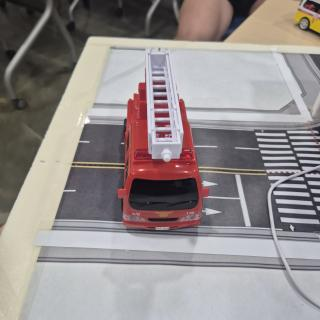Fire_truck: (118, 50, 209, 230)
